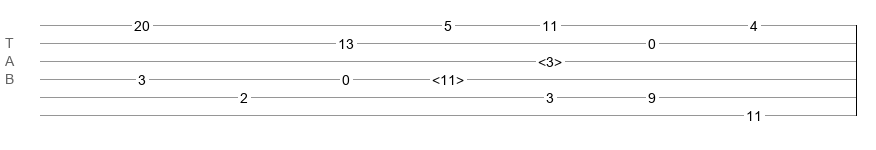0: (342, 72, 350, 82), (648, 36, 656, 46)
11: (542, 18, 558, 28), (746, 108, 762, 118)
13: (338, 36, 354, 46)
2: (240, 90, 248, 100)
20: (134, 18, 150, 28)
3: (138, 72, 146, 82), (546, 90, 554, 100)
4: (750, 18, 758, 28)
5: (444, 18, 452, 28)
9: (648, 90, 656, 100)
harmonic: (432, 72, 464, 82), (538, 54, 562, 64)
